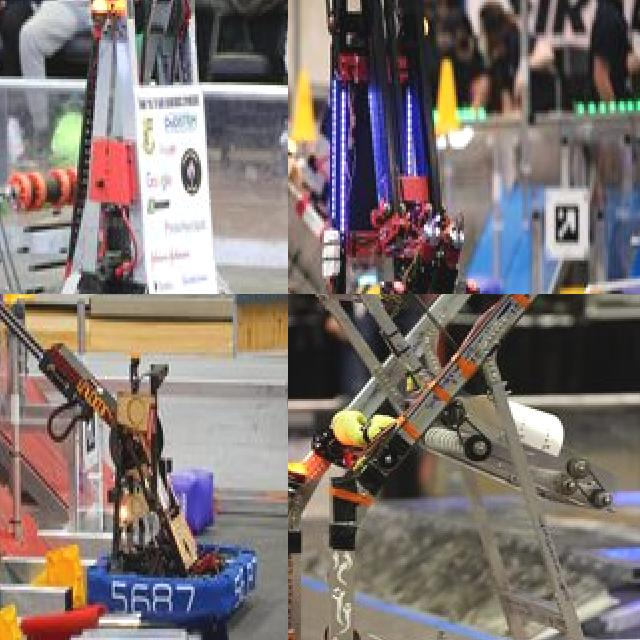FRC-Robots: (288, 294, 640, 640), (288, 0, 609, 294), (0, 294, 269, 619), (0, 0, 288, 294)
